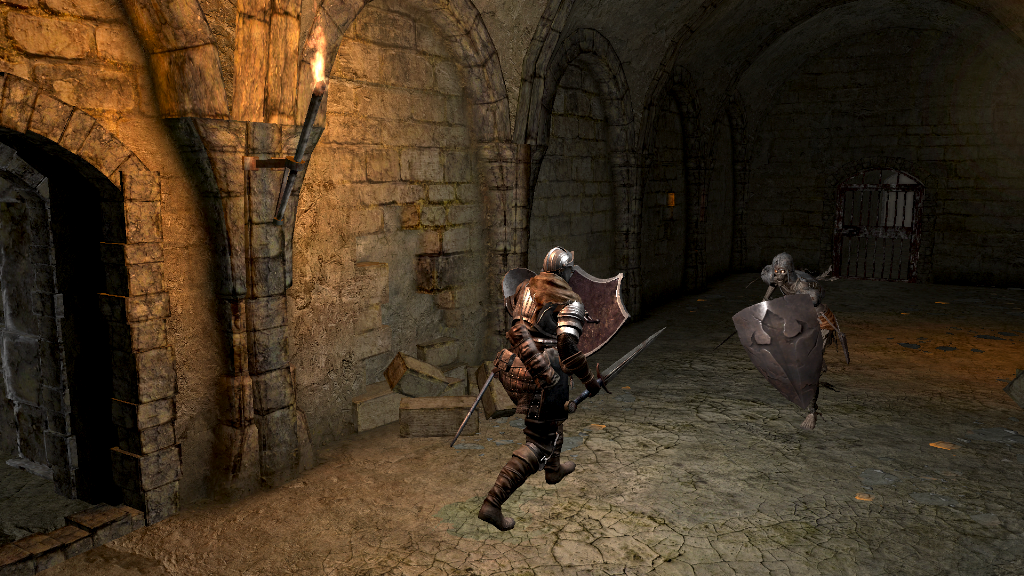player: (475, 247, 671, 533)
undeadSoldier: (733, 251, 848, 429)
